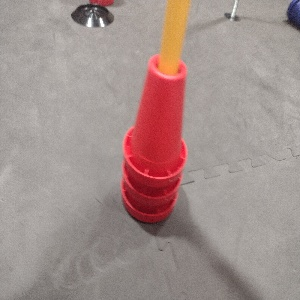Red_3: (120, 51, 192, 226)
